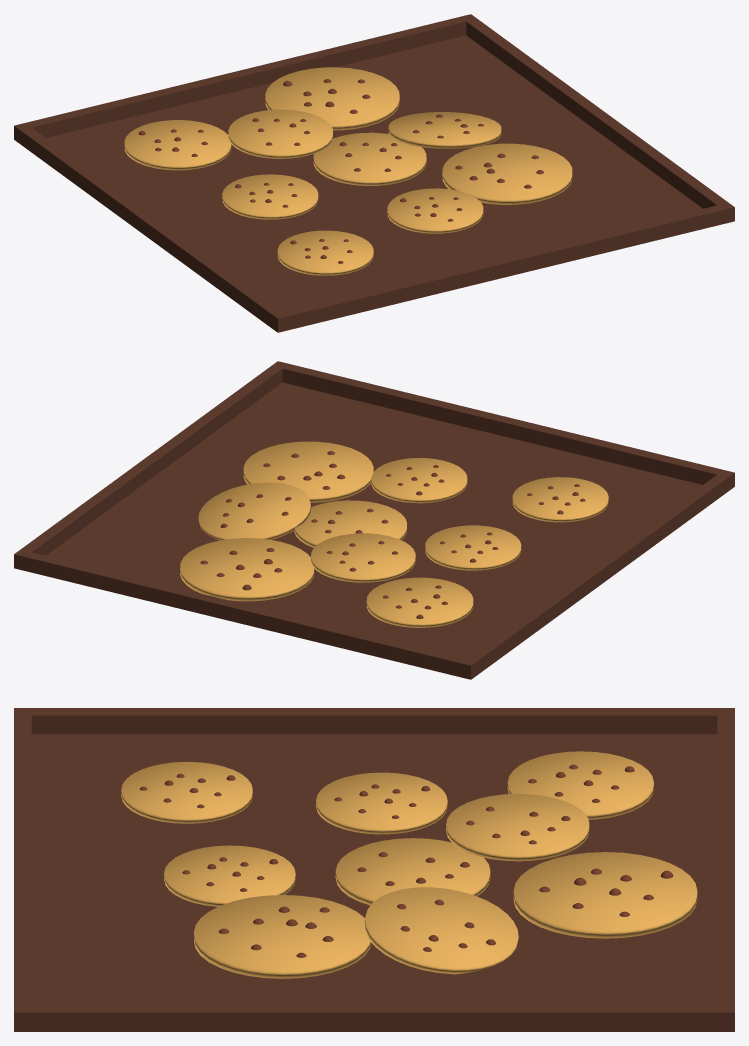
Rendered from Cookie_tray.fbx.
3 views of the same model, one above another, from view 1: azimuth 30°, elevation 25°; view 2: azimuth 150°, elevation 25°; view 3: azimuth 270°, elevation 25° (orthographic). The views are drawn at different scales.
Visible parts, largest first — view 1: Cube, CookieA.001, CookieA.002, CookieA, CookieA.007, CookieA.008, CookieA.003, CookieA.006, CookieA.005, CookieA.004; view 2: Cube, CookieA.002, CookieA.001, CookieA.004, CookieA.007, CookieA.008, CookieA.005, CookieA.003, CookieA.006, CookieA; view 3: Cube, CookieA.002, CookieA.001, CookieA.004, CookieA.008, CookieA, CookieA.007, CookieA.006, CookieA.005, CookieA.003.
Part boxes in pixels (<box>): Cube: <box>14,14,734,332</box>; CookieA.001: <box>442,143,572,204</box>; CookieA.002: <box>265,67,399,130</box>; CookieA: <box>313,132,426,185</box>; CookieA.007: <box>124,120,231,170</box>; CookieA.008: <box>228,109,332,158</box>; CookieA.003: <box>387,188,483,233</box>; CookieA.006: <box>222,174,318,219</box>; CookieA.005: <box>277,230,373,275</box>; CookieA.004: <box>388,112,501,148</box>; Cube: <box>14,361,734,679</box>; CookieA.002: <box>180,538,314,601</box>; CookieA.001: <box>243,441,373,502</box>; CookieA.004: <box>198,482,311,540</box>; CookieA.007: <box>366,577,473,627</box>; CookieA.008: <box>311,533,415,582</box>; CookieA.005: <box>512,477,608,522</box>; CookieA.003: <box>371,458,467,503</box>; CookieA.006: <box>425,525,521,570</box>; CookieA: <box>294,500,406,547</box>; Cube: <box>14,708,734,1031</box>; CookieA.002: <box>513,852,697,938</box>; CookieA.001: <box>194,895,371,978</box>; CookieA.004: <box>364,887,518,974</box>; CookieA.008: <box>446,793,589,861</box>; CookieA: <box>335,838,490,905</box>; CookieA.007: <box>507,751,653,819</box>; CookieA.006: <box>316,772,447,834</box>; CookieA.005: <box>121,761,252,823</box>; CookieA.003: <box>164,845,295,906</box>.
Size of the model in its own units: 867 by 44.78 by 867.
